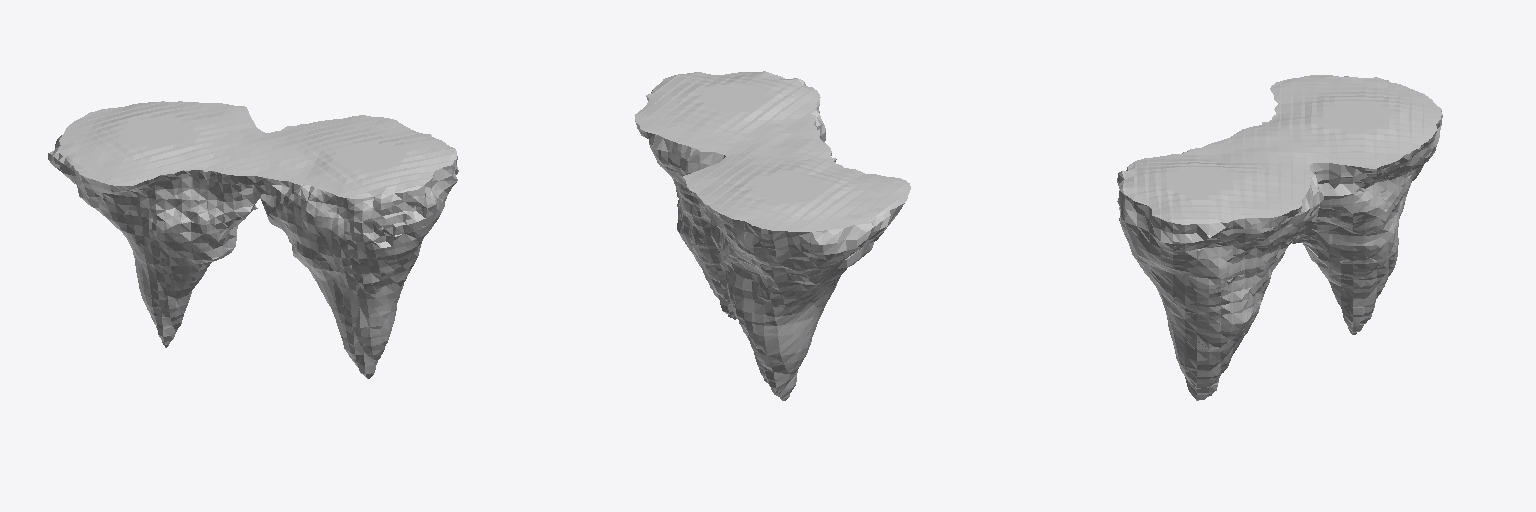
Rendered from IslandMisc_05.obj.
The picture shows the model from 3 angles: view 1: azimuth 30°, elevation 25°; view 2: azimuth 150°, elevation 25°; view 3: azimuth 270°, elevation 25°; orthographic projection.
Parts seen in each view (by area): view 1: IslandMisc_05; view 2: IslandMisc_05; view 3: IslandMisc_05.
Boxes of the visible parts, x1,y1,x2,y2 form: IslandMisc_05: [48, 101, 458, 378]; IslandMisc_05: [635, 71, 910, 400]; IslandMisc_05: [1117, 75, 1442, 400].
Size of the model in its own units: 30.09 by 20.37 by 27.16.